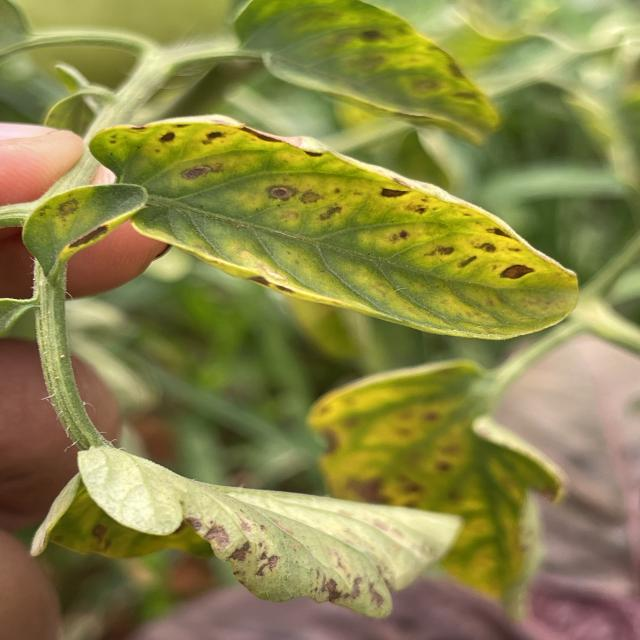tomato_early blight: (81, 121, 578, 335), (21, 446, 466, 617), (320, 366, 568, 602), (227, 0, 502, 143), (26, 175, 153, 279)
